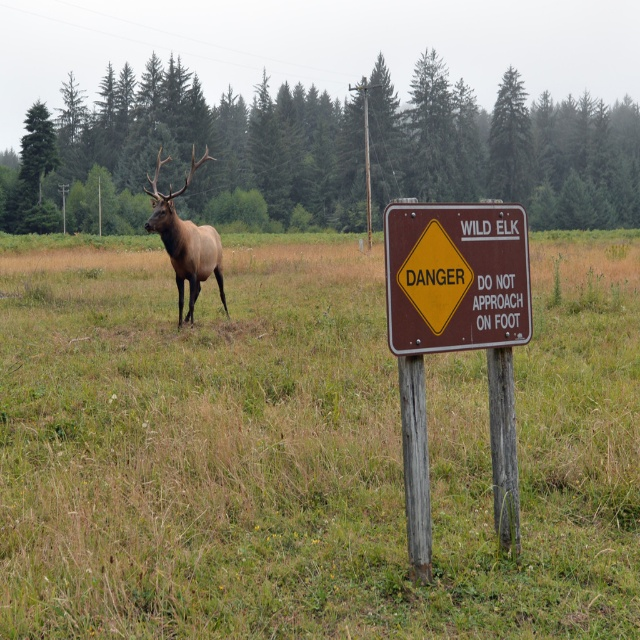Deer: (138, 146, 231, 329)
